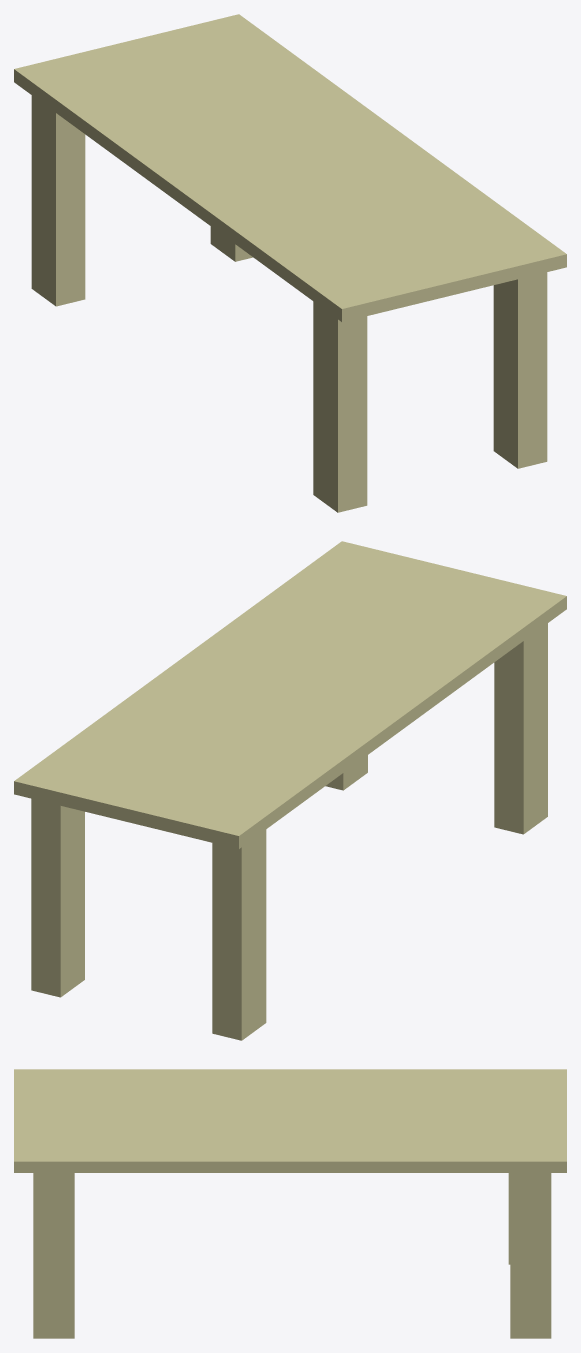
The model's file is Table.fbx.
3 views of the same model, one above another, from view 1: azimuth 30°, elevation 25°; view 2: azimuth 150°, elevation 25°; view 3: azimuth 270°, elevation 25° (orthographic). The views are drawn at different scales.
Visible parts, largest first — view 1: table; view 2: table; view 3: table.
Part boxes in pixels (left/top/right/bottom): table: left=14, top=14, right=566, bottom=512; table: left=14, top=541, right=566, bottom=1040; table: left=14, top=1069, right=566, bottom=1338.
Bounding box in the file's own units: 0.922 × 0.8377 × 2.33.
